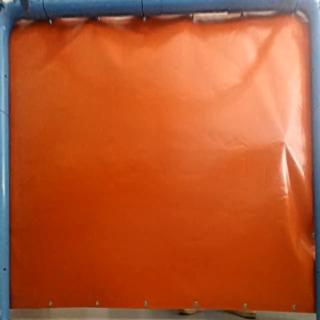Hit-hRxx: (278, 136, 290, 150)
